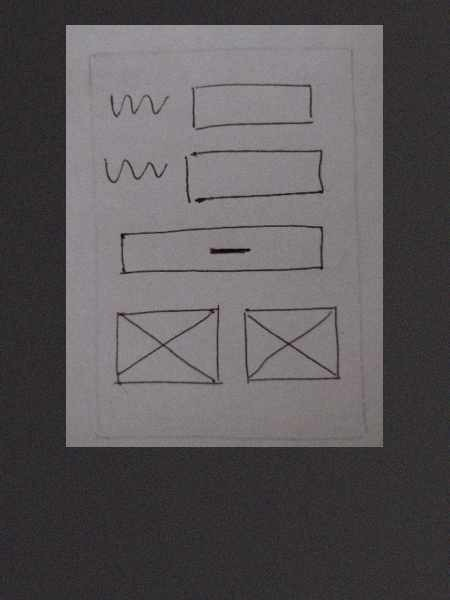button: (114, 222, 332, 279)
image: (108, 305, 232, 392), (237, 301, 350, 390)
text: (100, 154, 173, 189), (105, 87, 175, 122)
text_input: (178, 146, 331, 207), (182, 77, 322, 133)
